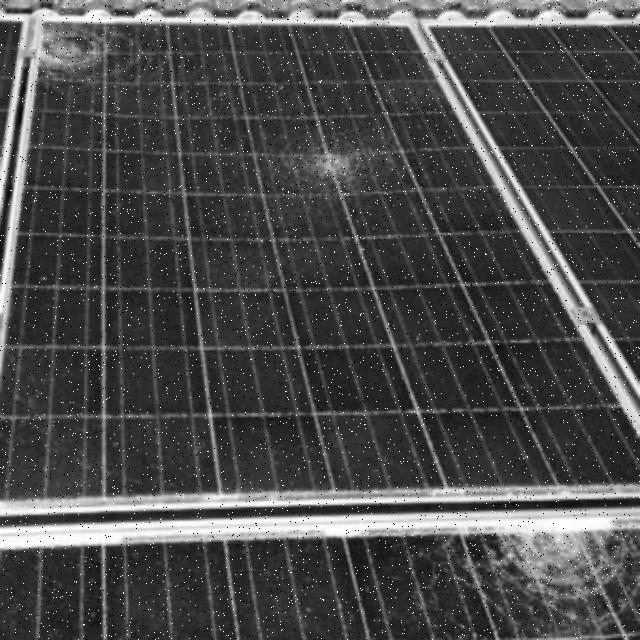physical damage: (242, 98, 460, 271), (451, 525, 639, 640), (35, 14, 143, 96)
